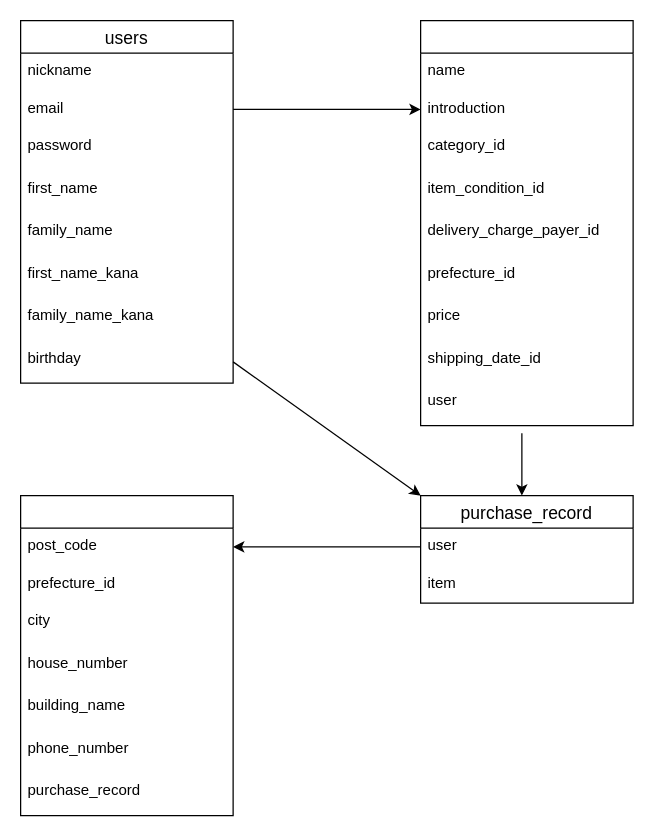
The diagram is 654 pixels wide and 836 high, and some of its shapes have lost their labels. The shapes that lost their labels are listed below. From the top down, each one's box as (x1, y1, x2, y2) in pixels, then its label:
(419, 19, 633, 426): items
(19, 494, 233, 816): sending_destination
